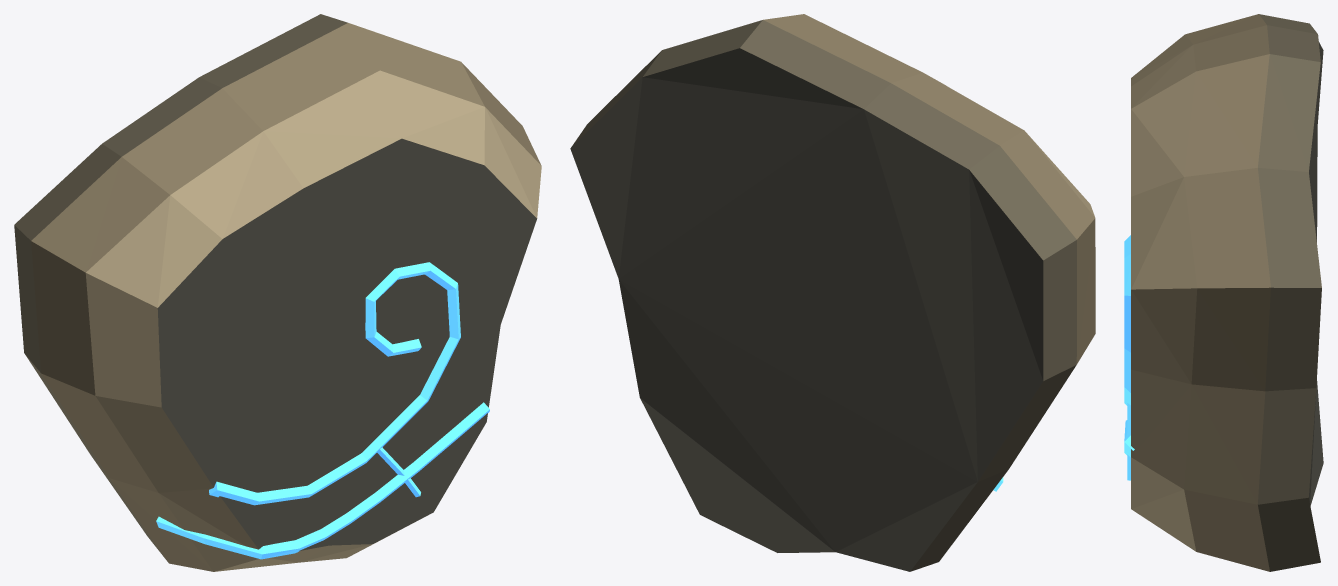
The model's file is FERNSTONE_TIDE.lo.glb.
3 views of the same model, side by side, from view 1: azimuth 30°, elevation 25°; view 2: azimuth 150°, elevation 25°; view 3: azimuth 270°, elevation 25° (orthographic).
Visible parts, largest first — view 1: Body_Mesh; view 2: Body_Mesh; view 3: Body_Mesh.
Boxes of the visible parts, <box> form: Body_Mesh: <box>14,14,541,571</box>; Body_Mesh: <box>570,14,1095,571</box>; Body_Mesh: <box>1124,14,1323,571</box>.
Bounding box in the file's own units: 0.3023 × 0.3033 × 0.1054.
Materials: 1 (1 with a texture image).
